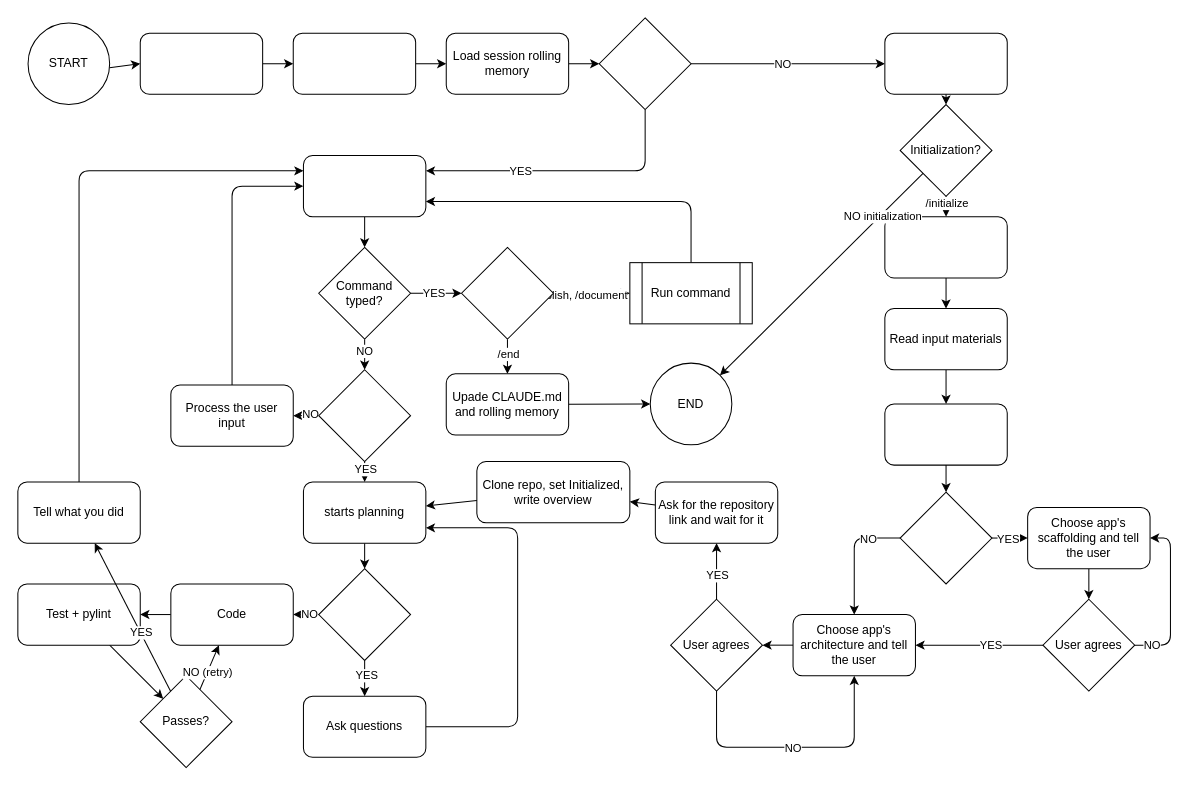
Image size: 1196x785. Some labels were removed from this diagram. The shapes that lost their labels are listed below. From the top down, each one's centre as x and y in pixels, then its label:
(x=201, y=63): /start
(x=354, y=63): Load CLAUDE.md
(x=644, y=63): Already initialized project?
(x=945, y=63): Tell user to run /initialize
(x=364, y=186): Wait for user input
(x=945, y=247): Ask the questions
(x=507, y=292): Which command?
(x=364, y=415): Coding assigment
(x=945, y=434): Save the answers
(x=945, y=537): Codenow?
(x=364, y=614): Need additional context??
